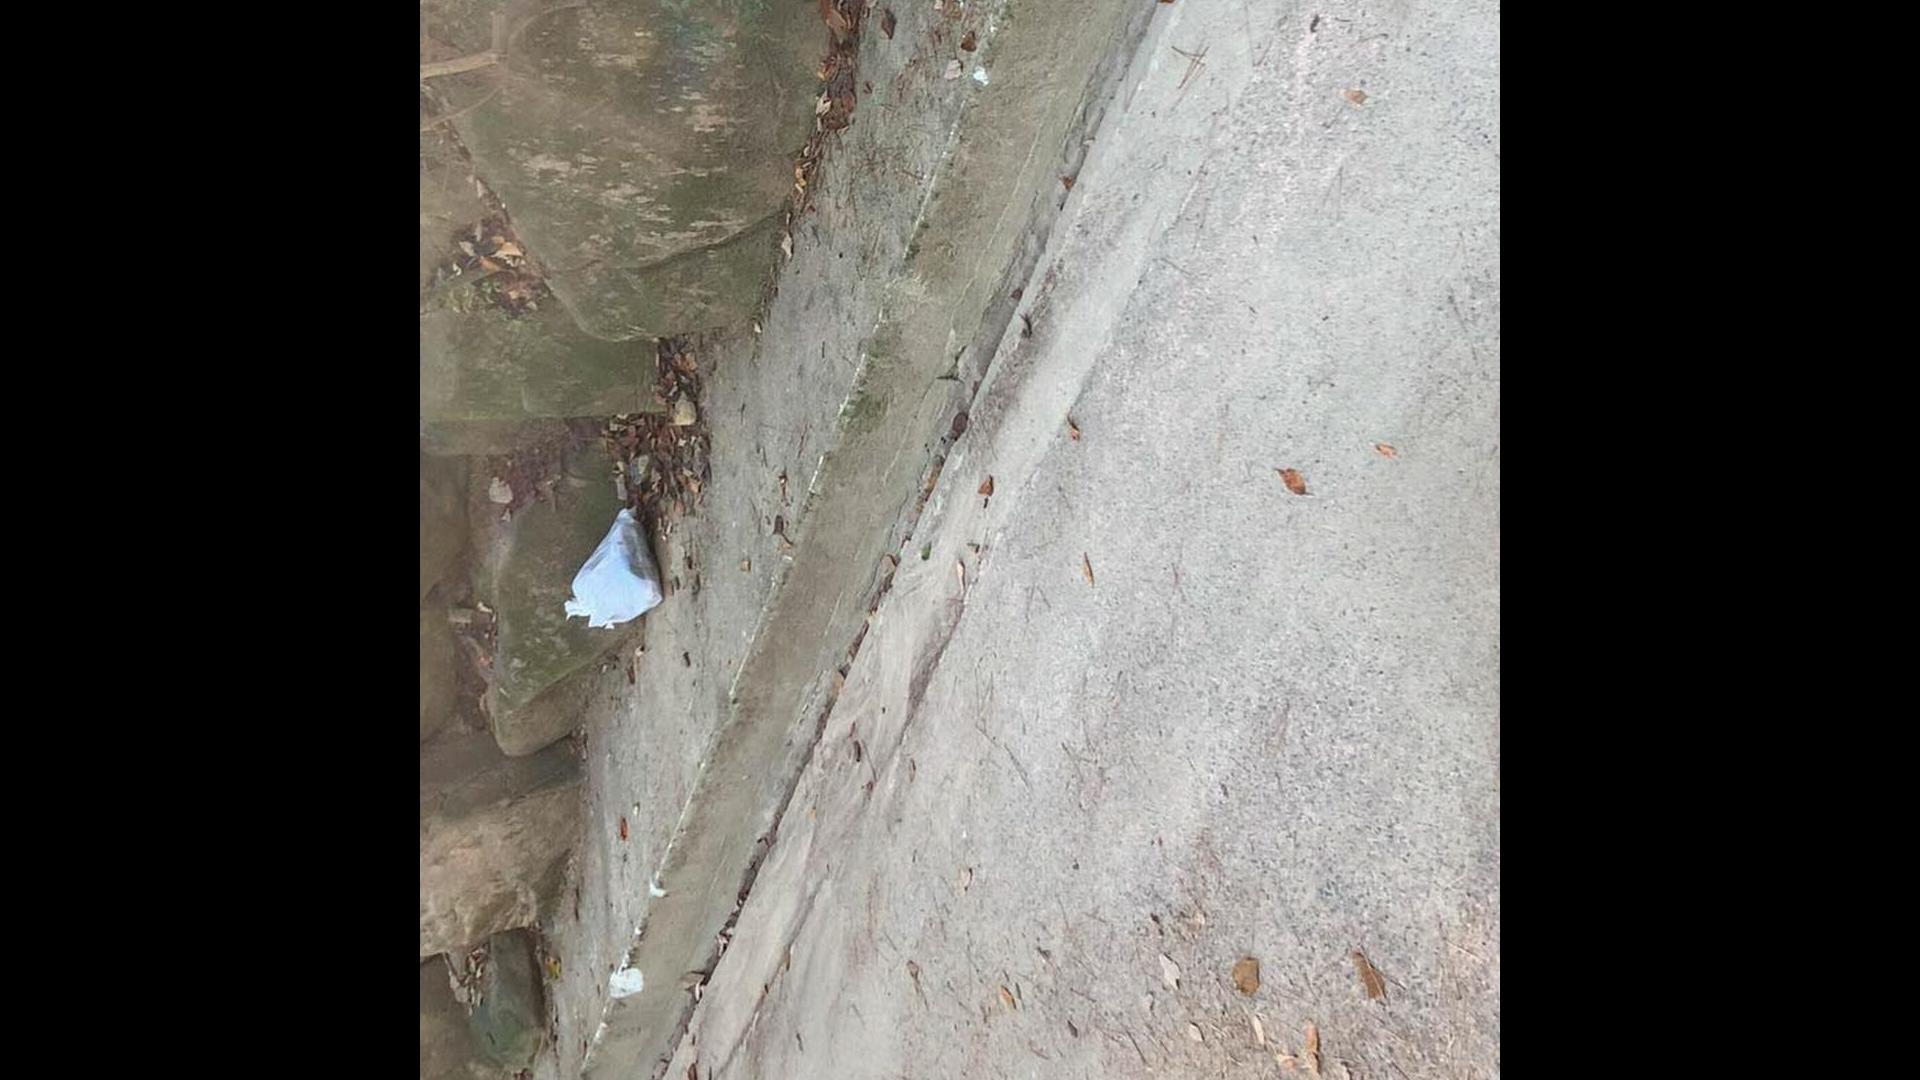white_bag: (556, 495, 666, 638)
